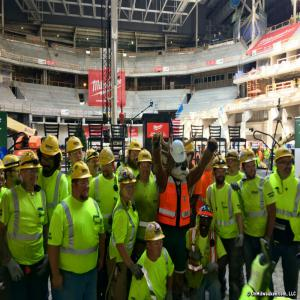blue: (198, 204, 214, 234)
yellow: (38, 133, 62, 174), (70, 160, 93, 201), (144, 221, 168, 259), (18, 150, 42, 188), (3, 153, 23, 189), (274, 145, 295, 179), (119, 166, 138, 200), (239, 149, 258, 181), (211, 154, 229, 185), (67, 136, 85, 166), (100, 147, 117, 177), (138, 150, 154, 179), (127, 141, 143, 169), (181, 137, 196, 165), (225, 149, 241, 175), (85, 147, 100, 174)
